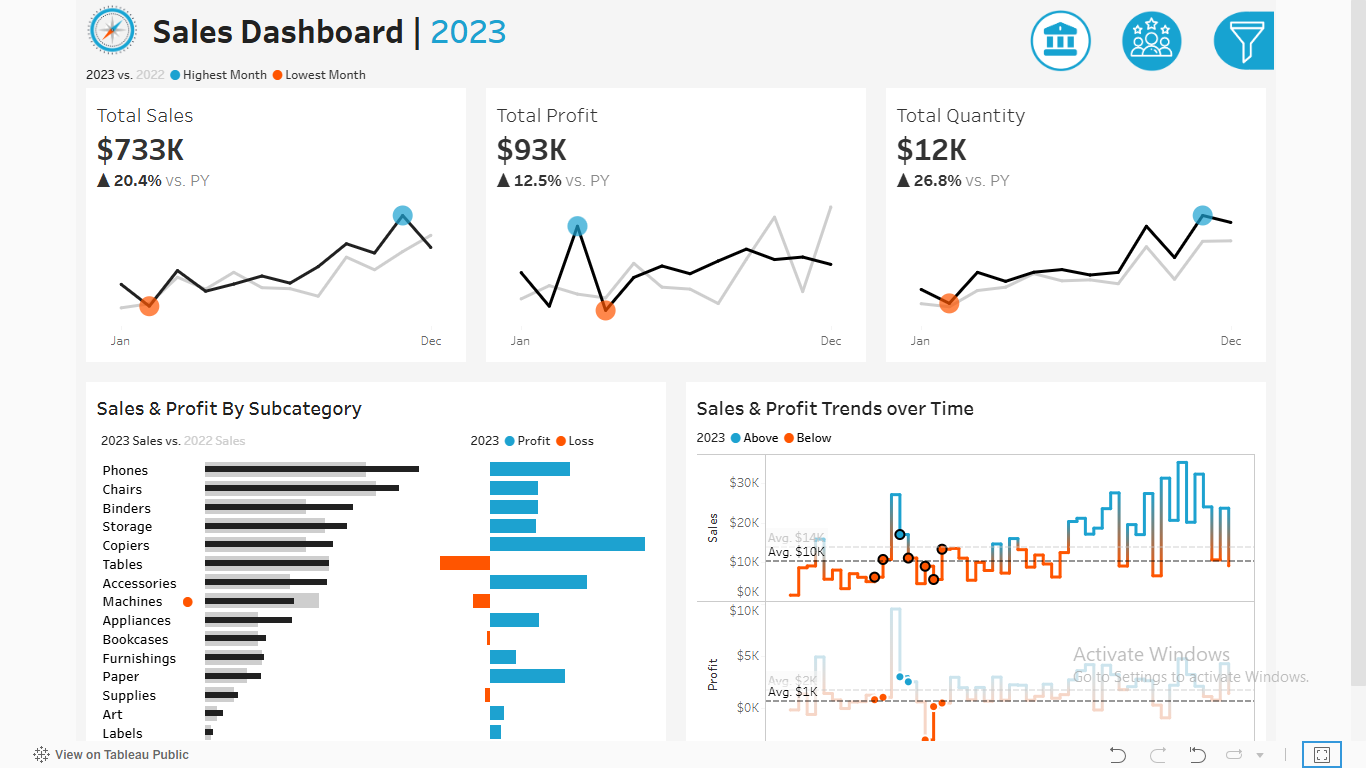

Layout of this report page (visuals, bound fields, positions):
{"tool":"tableau","page":{"name":"Sales Dashboard","canvas":[1200,800],"ordinal":1},"visuals":[{"type":"image","param":"Image/Icon - Logo.png","box":[0,0,73,59]},{"type":"text","box":[73,0,820,59]},{"type":"dashboard-object","box":[940,6,91,70]},{"type":"dashboard-object","box":[1031,6,91,70]},{"type":"blank","box":[952,10,237,86]},{"type":"worksheet","title":"Legend KPI","mark":"Automatic","box":[0,59,1200,29]},{"type":"worksheet","title":"KPI Sales","mark":"Automatic","rows":["Calculation_721701895347843083"],"cols":["Order Date"],"box":[0,88,400,284]},{"type":"worksheet","title":"KPI Profit","mark":"Automatic","rows":["Min/Max Sales (copy)_237846410425847814"],"cols":["Order Date"],"box":[400,88,400,284]},{"type":"worksheet","title":"KPI Quantity","mark":"Automatic","rows":["Min/Max Sales (copy) (copy)_237846410425856007"],"cols":["Order Date"],"box":[800,88,400,284]},{"type":"text","box":[952,96,237,37]},{"type":"parameter","param":"[Parameters].[Parameter 1]","box":[952,133,237,55]},{"type":"text","box":[952,188,237,32]},{"type":"filter","title":"KPI Sales","param":"[federated.1kpxa041aiai2y1cl4pui1t4eju9].[none:Category:nk]","box":[952,220,237,57]},{"type":"filter","title":"KPI Sales","param":"[federated.1kpxa041aiai2y1cl4pui1t4eju9].[none:Sub-Category:nk]","box":[952,277,237,57]},{"type":"blank","box":[952,334,237,60]},{"type":"text","box":[17,389,566,37]},{"type":"text","box":[617,389,566,37]},{"type":"text","box":[952,394,237,32]},{"type":"worksheet","title":"Legend Subcategory","mark":"Automatic","box":[17,426,374,32]},{"type":"text","box":[391,426,192,32]},{"type":"text","box":[617,426,566,28]},{"type":"filter","title":"KPI Sales","param":"[federated.1kpxa041aiai2y1cl4pui1t4eju9].[none:Region:nk]","box":[952,426,237,57]},{"type":"worksheet","title":"Weekly Trends","mark":"Automatic","rows":["Calculation_721701895334993921","CY Sales (copy)_237846410424180736"],"cols":["Order Date"],"box":[617,454,566,329]},{"type":"worksheet","title":"Subcategory Comparison","mark":"Bar","rows":["Sub-Category","Calculation_2435040078806671369"],"cols":["CY Sales (copy)_721701895335804930","Calculation_721701895334993921","CY Sales (copy)_237846410424180736"],"box":[17,458,566,324.9]},{"type":"filter","title":"KPI Sales","param":"[federated.1kpxa041aiai2y1cl4pui1t4eju9].[none:State:nk]","box":[952,483,237,57]},{"type":"filter","title":"KPI Sales","param":"[federated.1kpxa041aiai2y1cl4pui1t4eju9].[none:City:nk]","box":[952,540,237,57]}]}

Visuals, with their boxes on the page's 1200x800 design canvas (x1, y1, x2, y2). These are canvas units, not pixel positions in the 1366x768 screenshot, which may show the page scaled, cropped or inside an application window:
image: bbox(0, 0, 73, 59)
text: bbox(73, 0, 893, 59)
dashboard-object: bbox(940, 6, 1031, 76)
dashboard-object: bbox(1031, 6, 1122, 76)
blank: bbox(952, 10, 1189, 96)
"Legend KPI" worksheet: bbox(0, 59, 1200, 88)
"KPI Sales" worksheet: bbox(0, 88, 400, 372)
"KPI Profit" worksheet: bbox(400, 88, 800, 372)
"KPI Quantity" worksheet: bbox(800, 88, 1200, 372)
text: bbox(952, 96, 1189, 133)
parameter: bbox(952, 133, 1189, 188)
text: bbox(952, 188, 1189, 220)
"KPI Sales" filter: bbox(952, 220, 1189, 277)
"KPI Sales" filter: bbox(952, 277, 1189, 334)
blank: bbox(952, 334, 1189, 394)
text: bbox(17, 389, 583, 426)
text: bbox(617, 389, 1183, 426)
text: bbox(952, 394, 1189, 426)
"Legend Subcategory" worksheet: bbox(17, 426, 391, 458)
text: bbox(391, 426, 583, 458)
text: bbox(617, 426, 1183, 454)
"KPI Sales" filter: bbox(952, 426, 1189, 483)
"Weekly Trends" worksheet: bbox(617, 454, 1183, 783)
"Subcategory Comparison" worksheet (Bar marks): bbox(17, 458, 583, 783)
"KPI Sales" filter: bbox(952, 483, 1189, 540)
"KPI Sales" filter: bbox(952, 540, 1189, 597)
